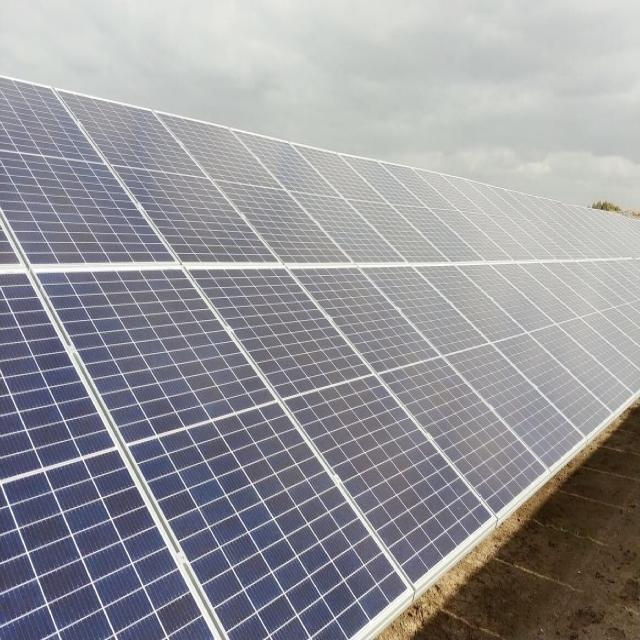clean-solar-panel: (0, 79, 640, 637)
